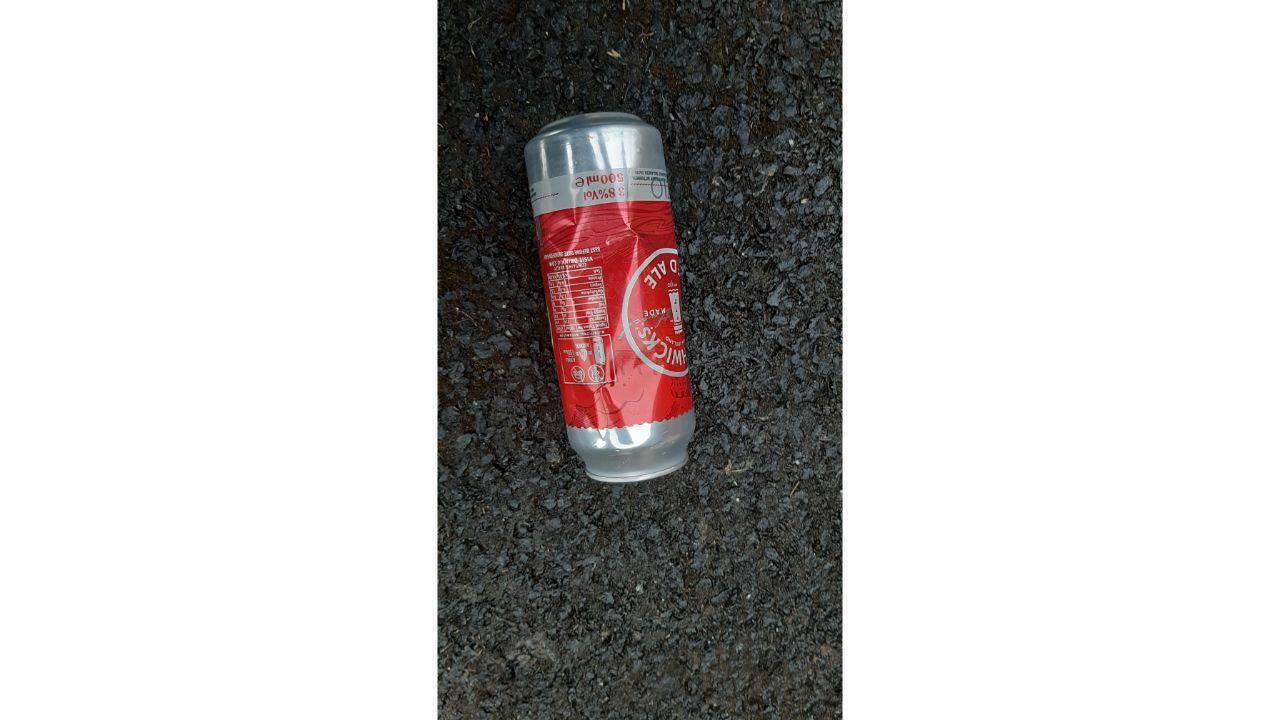Can: (522, 110, 697, 485)
